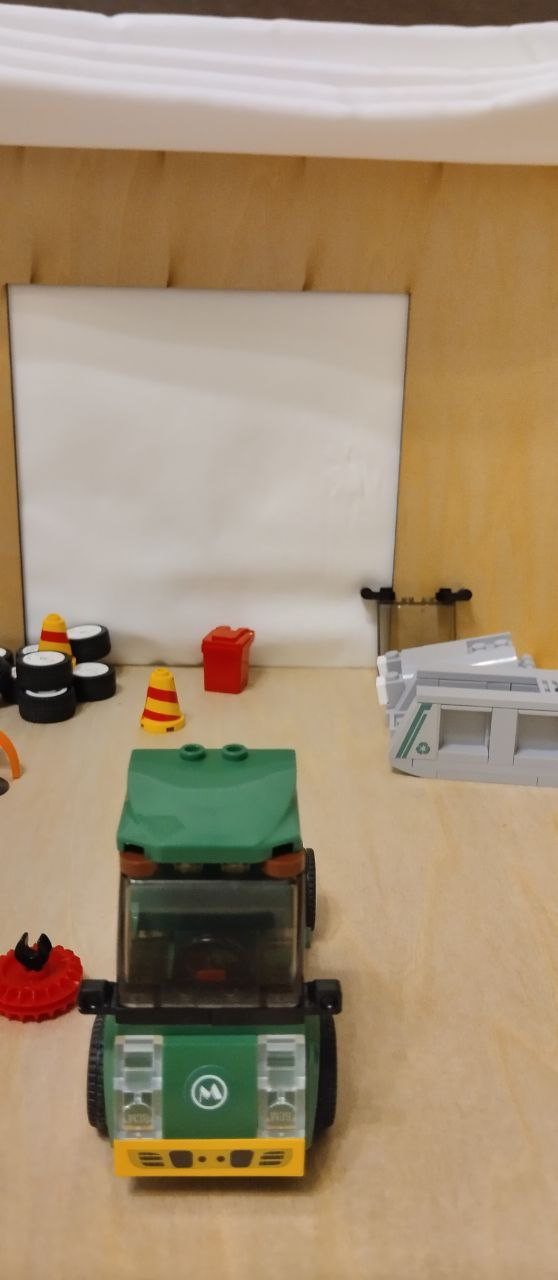Cone: (136, 667, 190, 737), (38, 612, 71, 674)
Object Red: (201, 628, 255, 695)
Truck: (72, 737, 374, 1193)
